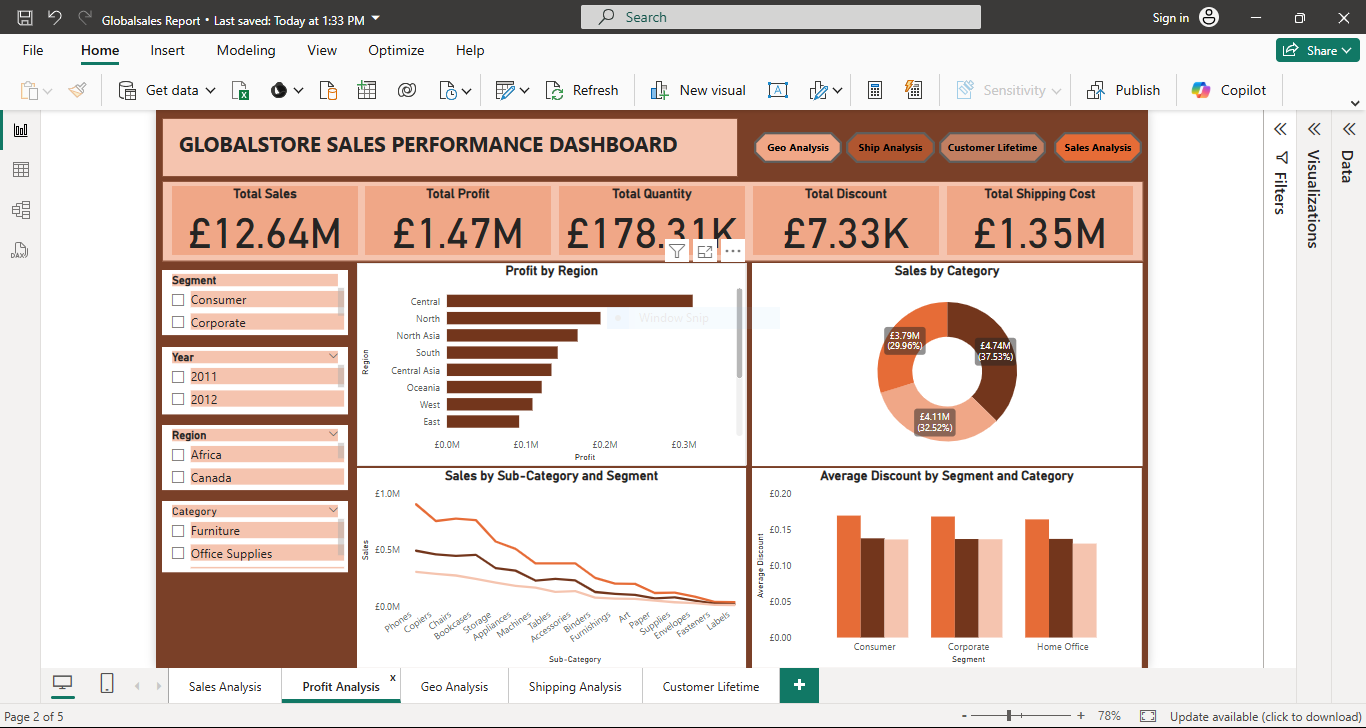

This screenshot's page, from the dashboard's own definition file:
{"tool":"powerbi","page":{"name":"Profit Analysis","canvas":[1280,720],"ordinal":1},"visuals":[{"type":"shape","box":[8,10,743,76],"z":0},{"type":"textbox","box":[25,21.2,706.2,53.8],"z":1000},{"type":"shape","box":[7.5,91.2,1266.2,103.8],"z":2000},{"type":"card","title":"Total Sales","fields":{"Values":["Globalstore-Data.Sales"]},"box":[20,98.5,240,88.8],"z":3000},{"type":"card","title":"Total Profit","fields":{"Values":["Globalstore-Data.Profit"]},"box":[270.3,98.5,240,88.8],"z":4000},{"type":"card","title":"Total Quantity","fields":{"Values":["Globalstore-Data.Quantity"]},"box":[520.6,98.5,240,88.8],"z":5000},{"type":"card","title":"Total Discount","fields":{"Values":["Globalstore-Data.Discount"]},"box":[770.9,98.5,240,88.8],"z":6000},{"type":"card","title":"Total Shipping Cost","fields":{"Values":["Globalstore-Data.Shipping Cost"]},"box":[1021.2,98.5,240,88.8],"z":7000},{"type":"barChart","fields":{"Category":["Globalstore-Data.Region"],"Y":["Globalstore-Data.Profit"]},"box":[258.8,197.5,502.5,261.2],"z":8000},{"type":"donutChart","fields":{"Category":["Globalstore-Data.Category"],"Y":["Globalstore-Data.Sales"]},"box":[769.4,196.8,503.7,261.5],"z":9000},{"type":"clusteredColumnChart","fields":{"Y":["Globalstore-Data.Discount"],"Category":["Globalstore-Data.Segment"],"Series":["Globalstore-Data.Category"]},"box":[768.9,462.2,503.3,257.8],"z":10000},{"type":"actionButton","box":[1158.7,28.4,113.5,40],"z":11000},{"type":"actionButton","box":[771.6,28.4,113.5,40],"z":12000},{"type":"actionButton","box":[890.3,28.4,114.8,40],"z":13000},{"type":"actionButton","box":[1010.3,28.4,138.1,40],"z":14000},{"type":"slicer","fields":{"Values":["Globalstore-Data.Segment"]},"box":[7.8,206.8,240,84.4],"z":15000},{"type":"slicer","fields":{"Values":["Globalstore-Data.Order Date.Variation.Date Hierarchy.Year"]},"box":[7.8,305.3,240,86.7],"z":16000},{"type":"slicer","fields":{"Values":["Globalstore-Data.Region"]},"box":[7.8,406,240,84.4],"z":17000},{"type":"slicer","fields":{"Values":["Globalstore-Data.Category"]},"box":[7.8,504.4,240,92.2],"z":18000},{"type":"lineChart","fields":{"Category":["Globalstore-Data.Sub-Category"],"Y":["Globalstore-Data.Sales"],"Series":["Globalstore-Data.Segment"]},"box":[258.9,462.2,502.2,257.8],"z":20000}]}

Visuals, with their boxes on the page's 1280x720 design canvas (x1, y1, x2, y2). These are canvas units, not pixel positions in the 1366x728 screenshot, which may show the page scaled, cropped or inside an application window:
shape: left=8, top=10, right=751, bottom=86
textbox: left=25, top=21, right=731, bottom=75
shape: left=8, top=91, right=1274, bottom=195
"Total Sales" card: left=20, top=98, right=260, bottom=187
"Total Profit" card: left=270, top=98, right=510, bottom=187
"Total Quantity" card: left=521, top=98, right=761, bottom=187
"Total Discount" card: left=771, top=98, right=1011, bottom=187
"Total Shipping Cost" card: left=1021, top=98, right=1261, bottom=187
barChart - Globalstore-Data.Region x Globalstore-Data.Profit: left=259, top=198, right=761, bottom=459
donutChart - Globalstore-Data.Category x Globalstore-Data.Sales: left=769, top=197, right=1273, bottom=458
clusteredColumnChart - Globalstore-Data.Discount x Globalstore-Data.Segment: left=769, top=462, right=1272, bottom=720
actionButton: left=1159, top=28, right=1272, bottom=68
actionButton: left=772, top=28, right=885, bottom=68
actionButton: left=890, top=28, right=1005, bottom=68
actionButton: left=1010, top=28, right=1148, bottom=68
slicer - Globalstore-Data.Segment: left=8, top=207, right=248, bottom=291
slicer - Globalstore-Data.Order Date.Variation.Date Hierarchy.Year: left=8, top=305, right=248, bottom=392
slicer - Globalstore-Data.Region: left=8, top=406, right=248, bottom=490
slicer - Globalstore-Data.Category: left=8, top=504, right=248, bottom=597
lineChart - Globalstore-Data.Sub-Category x Globalstore-Data.Sales: left=259, top=462, right=761, bottom=720
